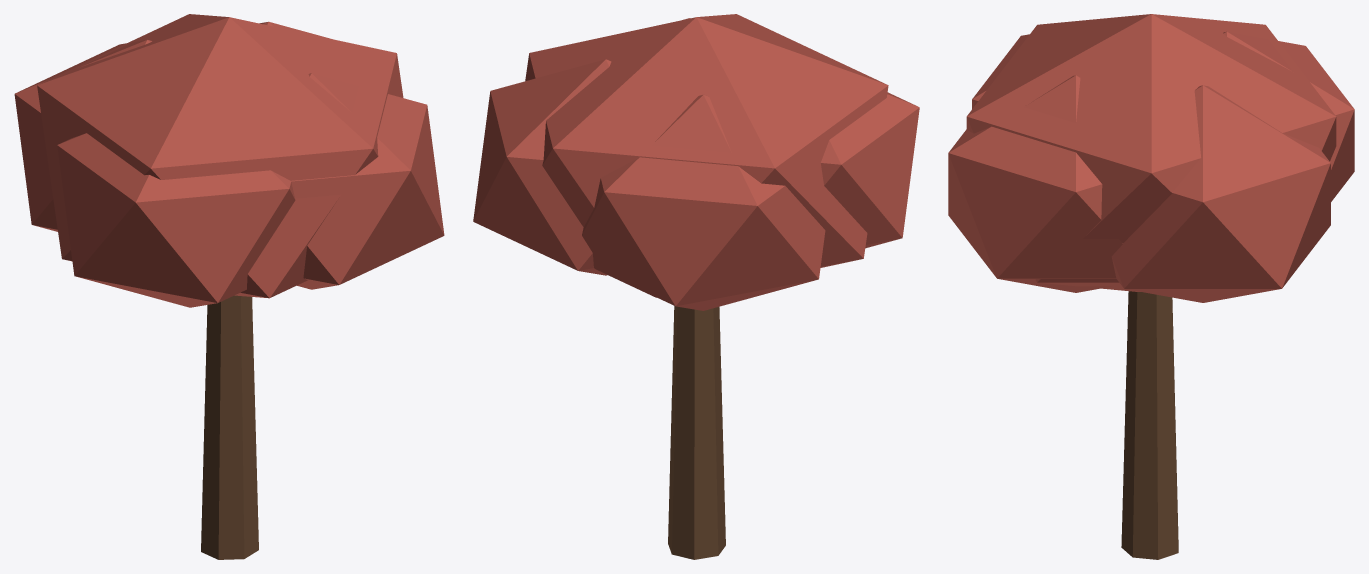
The model's file is VG_Tree_Flowering.fbx.
The picture shows the model from 3 angles, left to right: view 1: azimuth 30°, elevation 25°; view 2: azimuth 150°, elevation 25°; view 3: azimuth 270°, elevation 25°; orthographic projection.
Parts seen in each view (by area): view 1: VG_Tree_Flowering_Mesh; view 2: VG_Tree_Flowering_Mesh; view 3: VG_Tree_Flowering_Mesh.
Part boxes in pixels (box(x1,y1,x2,y2)): VG_Tree_Flowering_Mesh: box(14, 14, 444, 559); VG_Tree_Flowering_Mesh: box(473, 14, 919, 559); VG_Tree_Flowering_Mesh: box(948, 14, 1354, 559).
Bounding box in the file's own units: 2.65 × 3.72 × 2.57.
